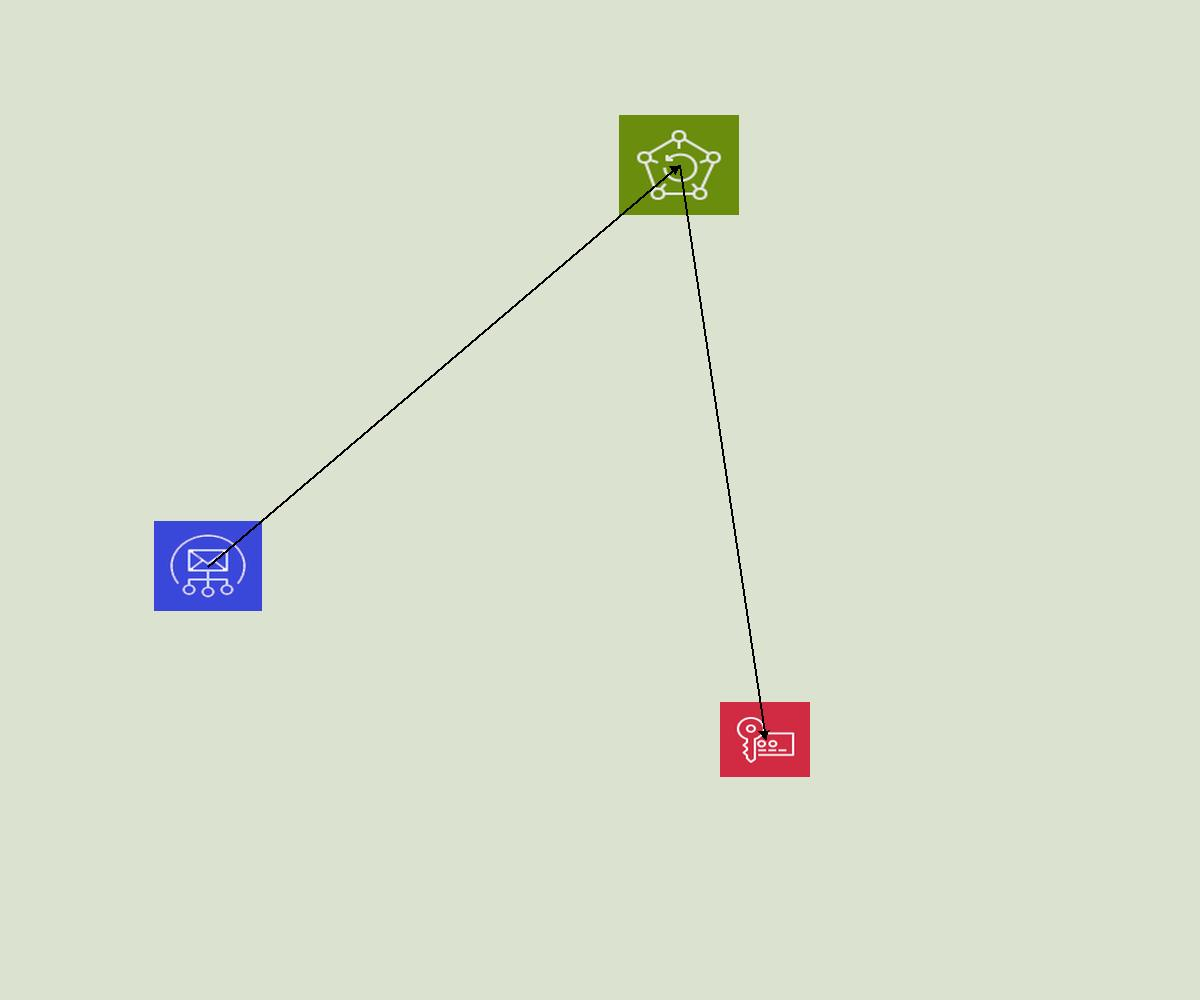AWS-Backup: (619, 115, 739, 215)
AWS-Key-Management-Service: (720, 702, 810, 777)
AWS-Simple-Email-Service: (154, 521, 262, 611)
